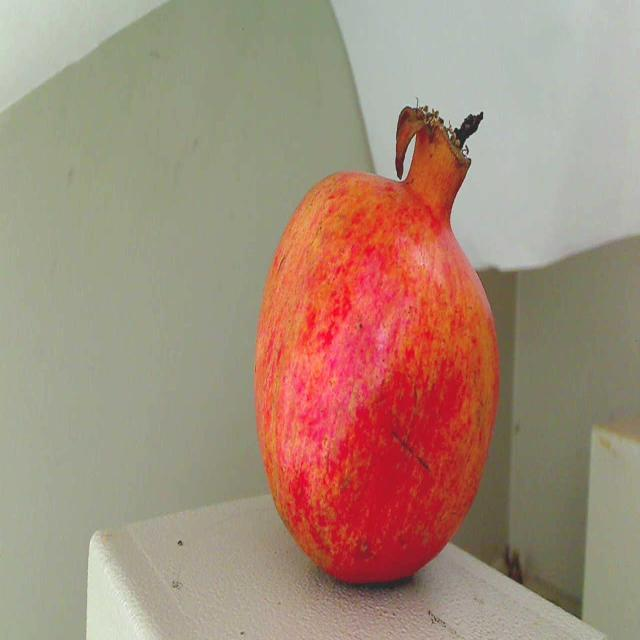pomegranate: (246, 87, 506, 600)
